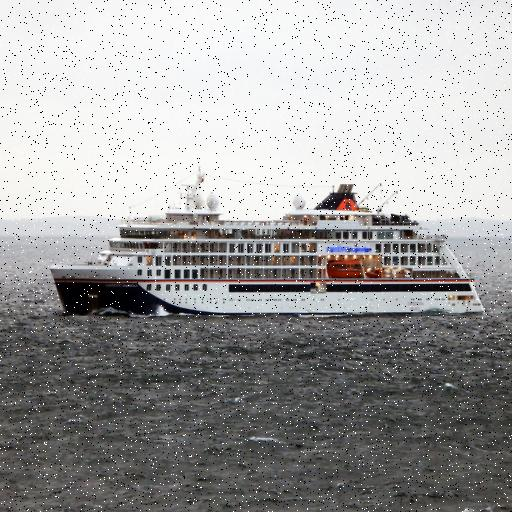cruises: (46, 165, 488, 324)
